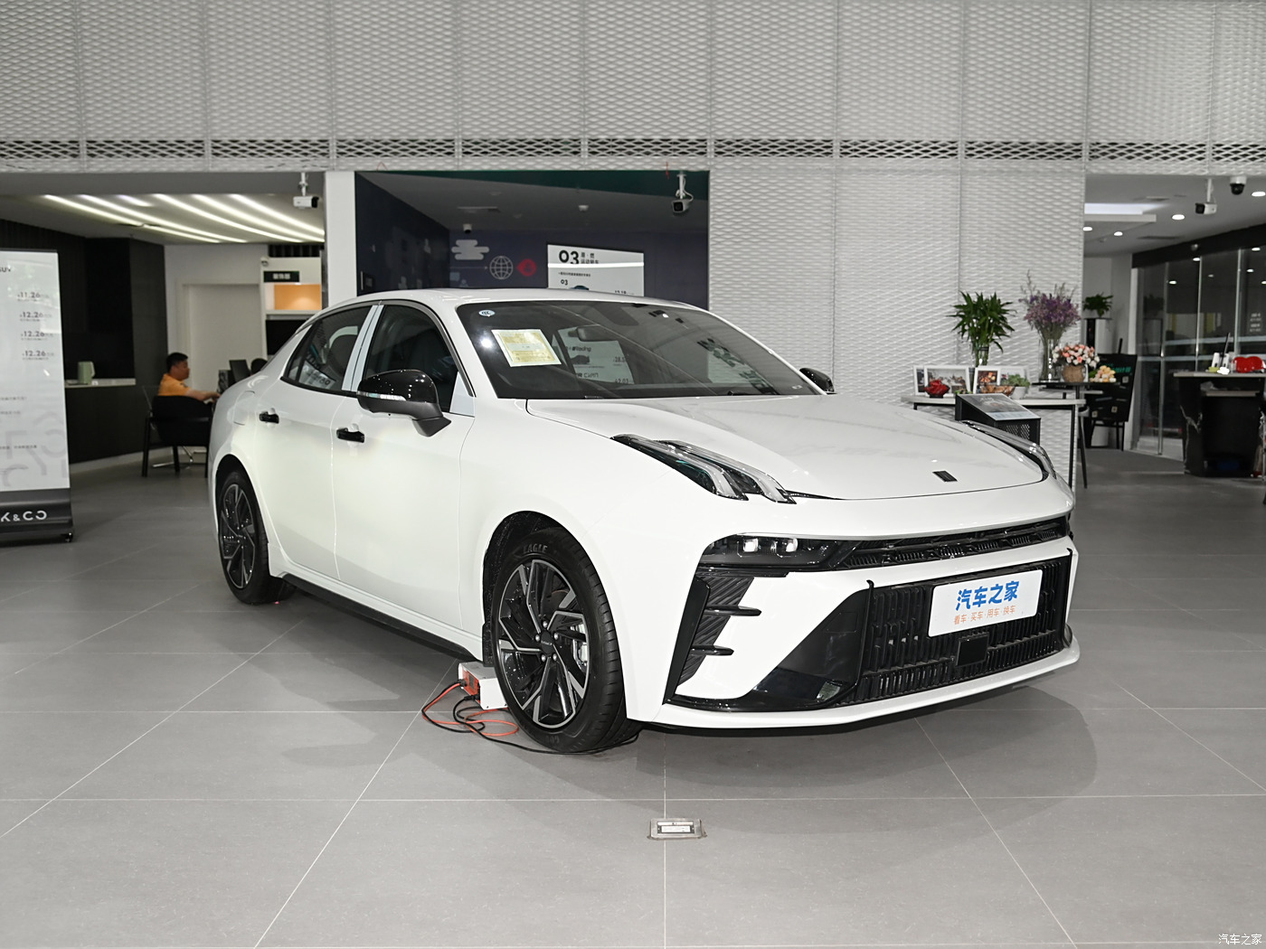LINK&CO: (934, 471, 958, 482)
